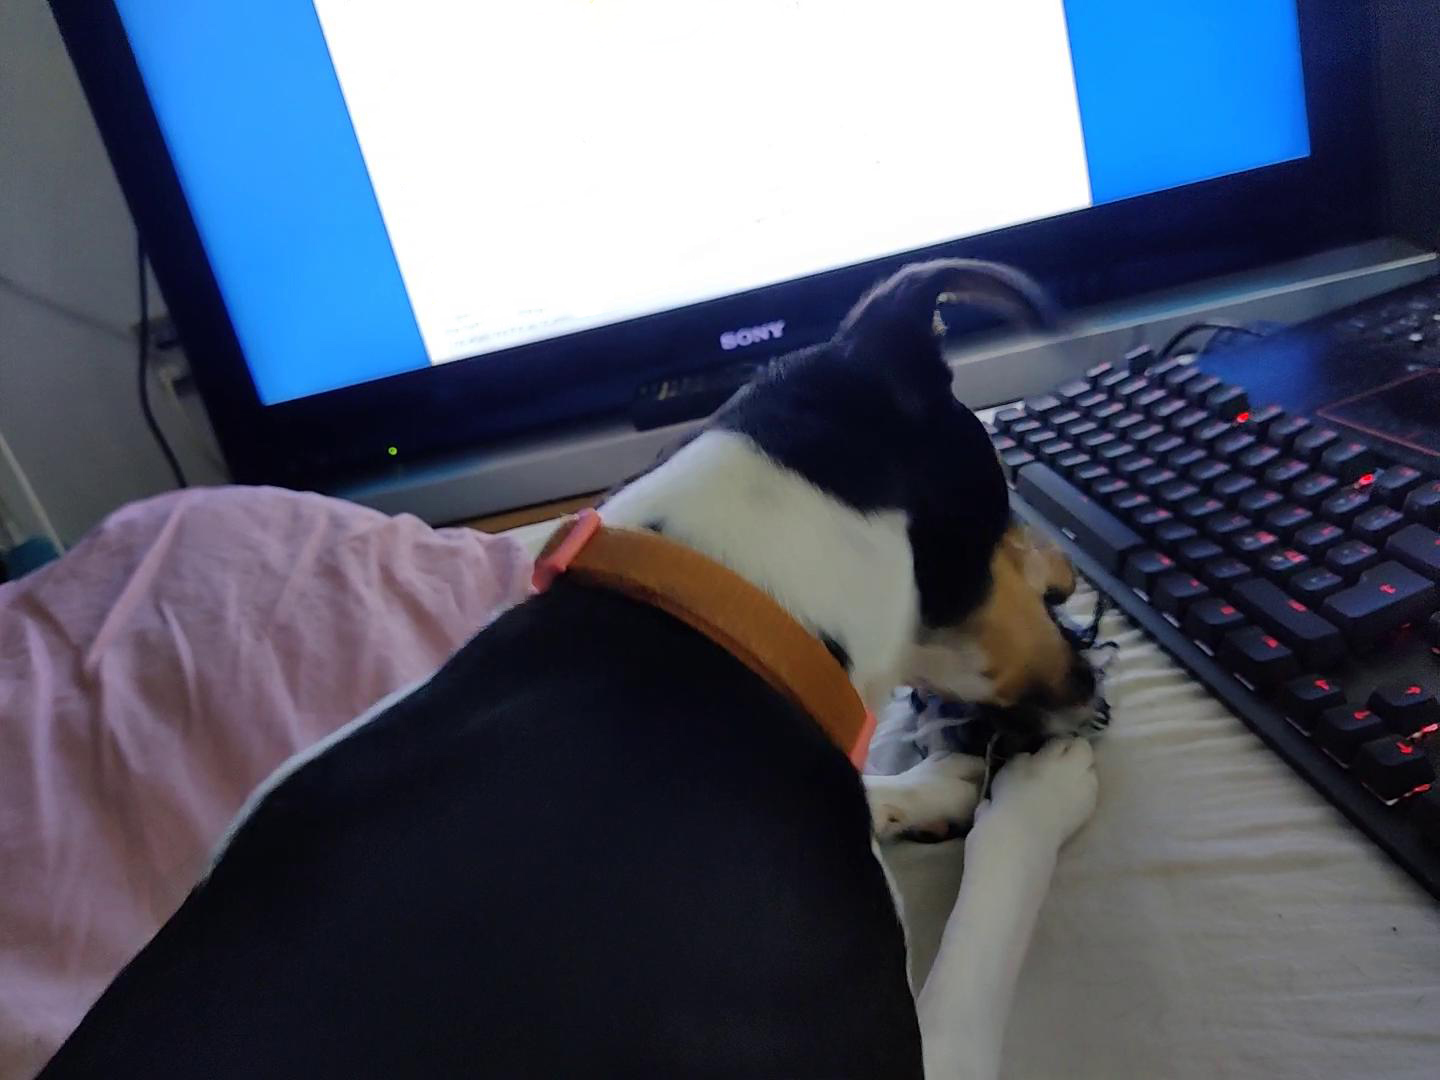Dog: (24, 253, 1108, 1079)
